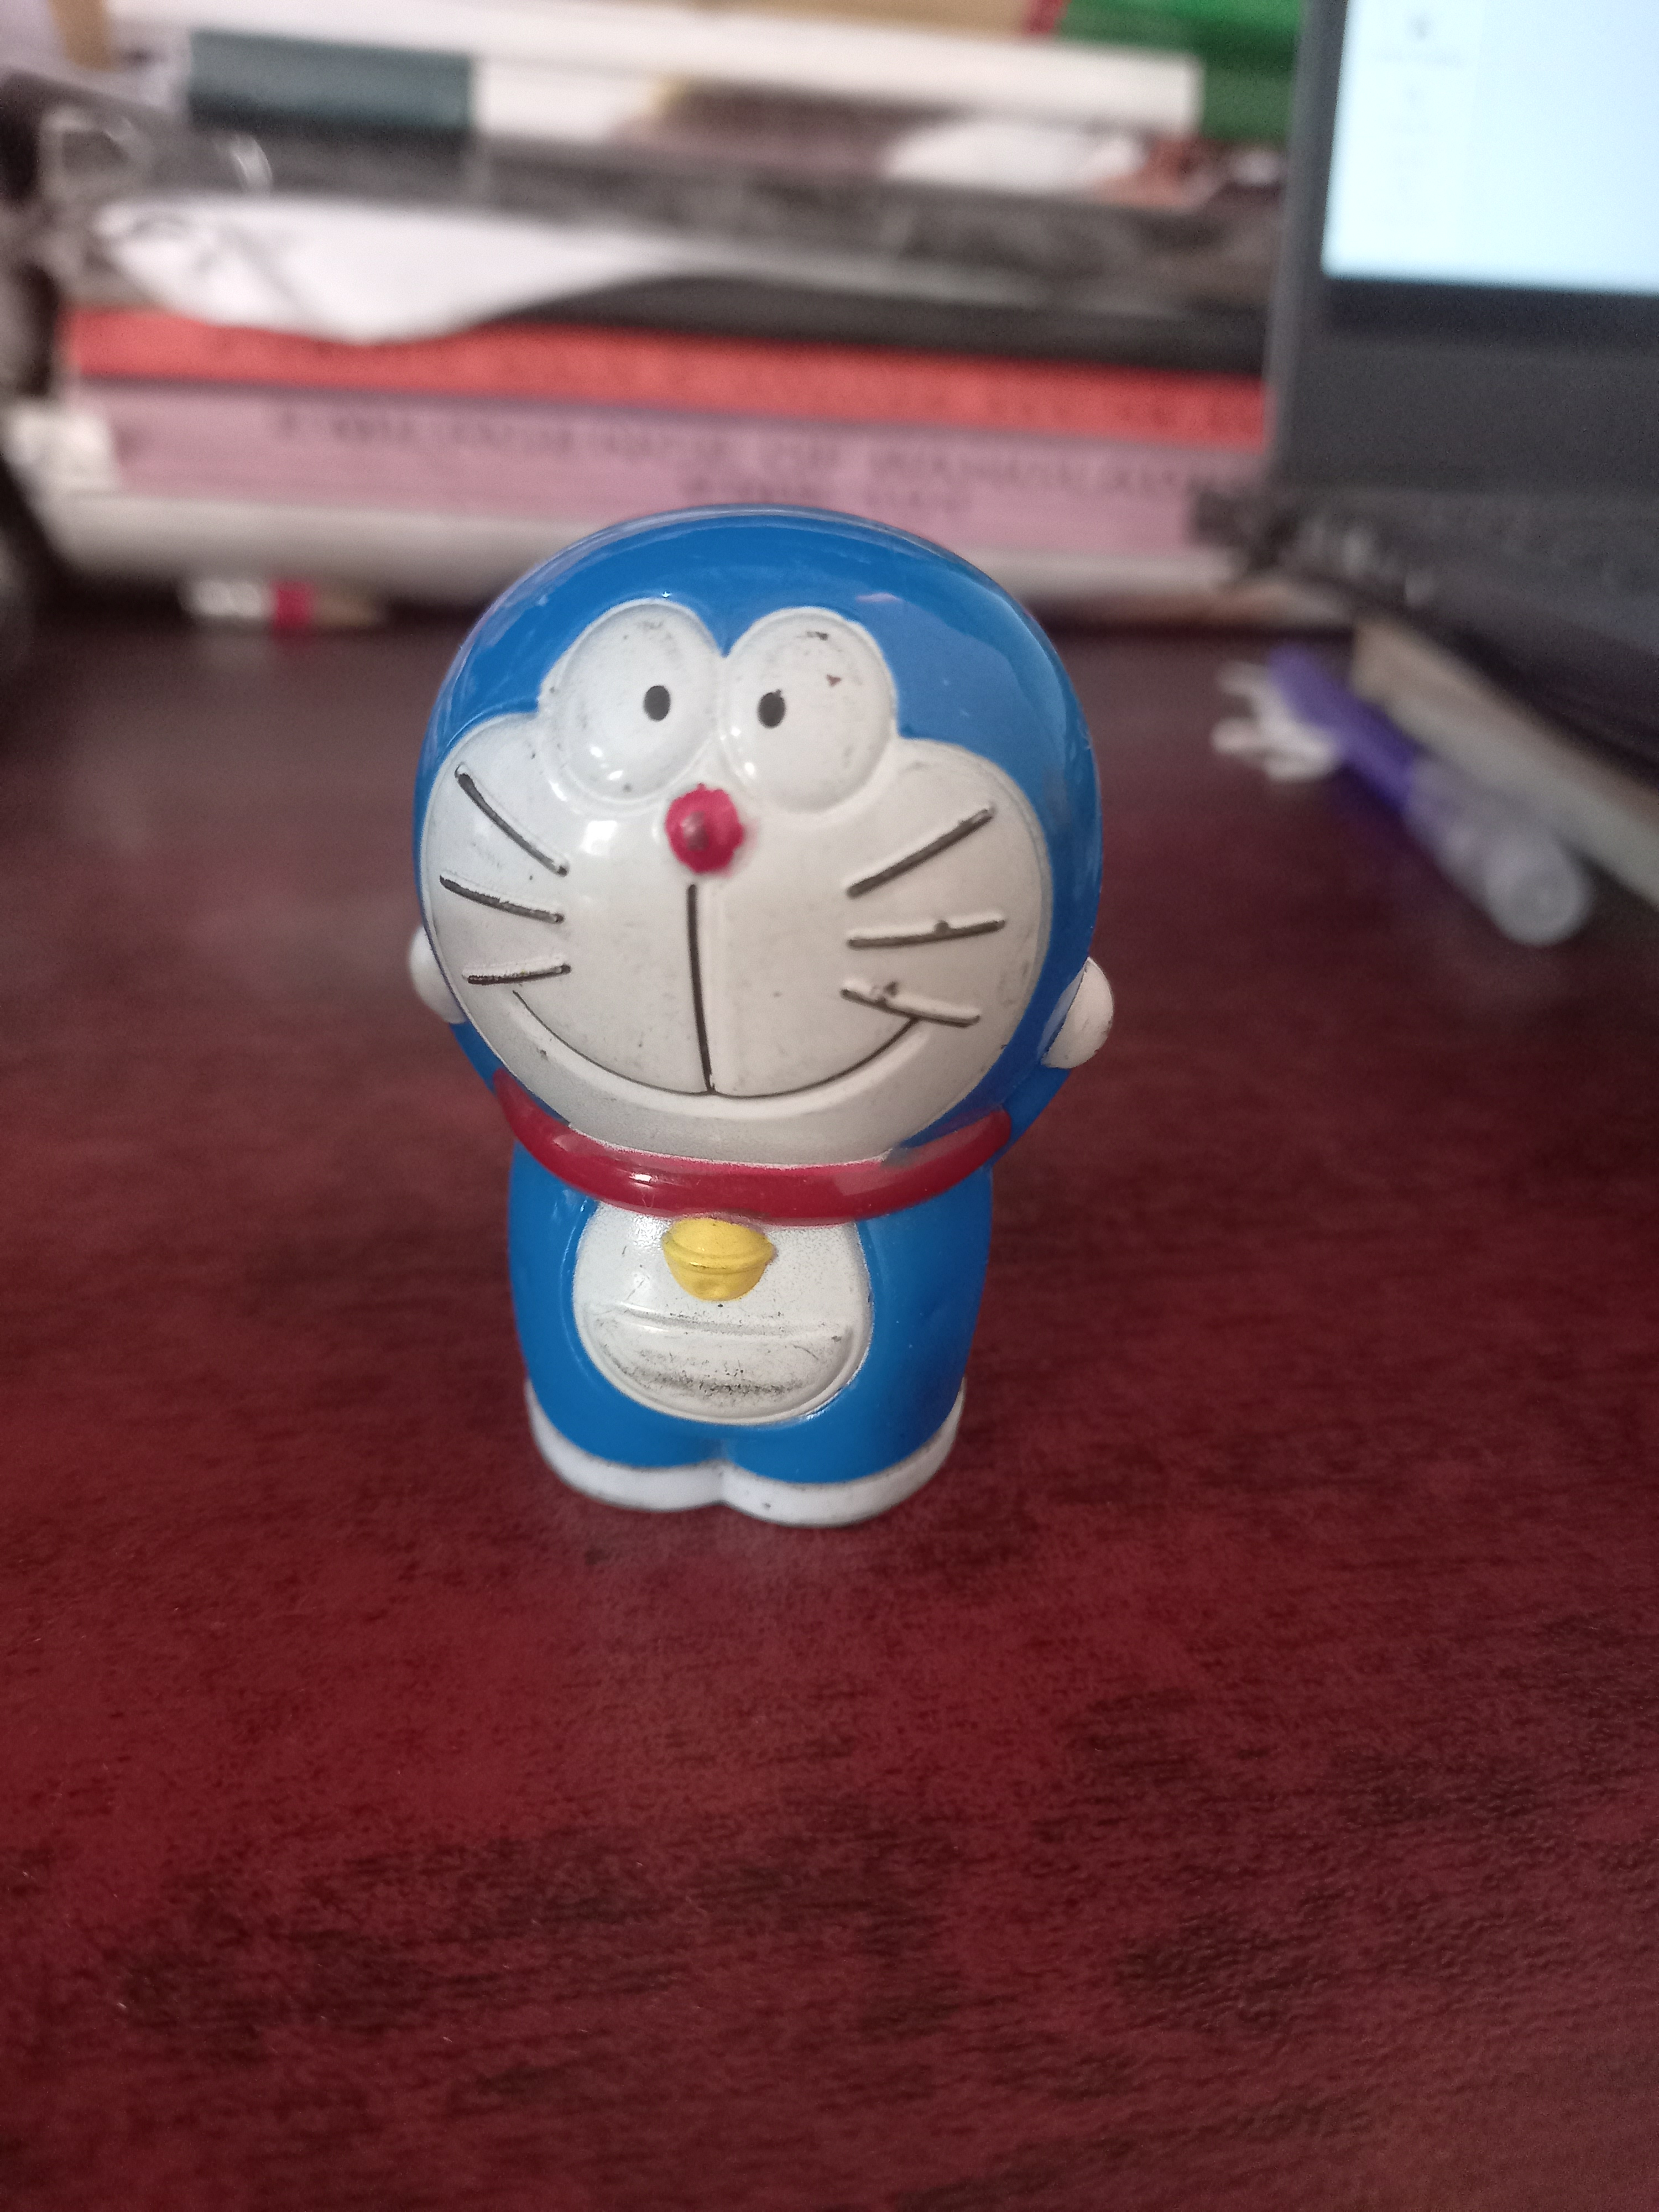doraemon: (416, 556, 1129, 1534)
